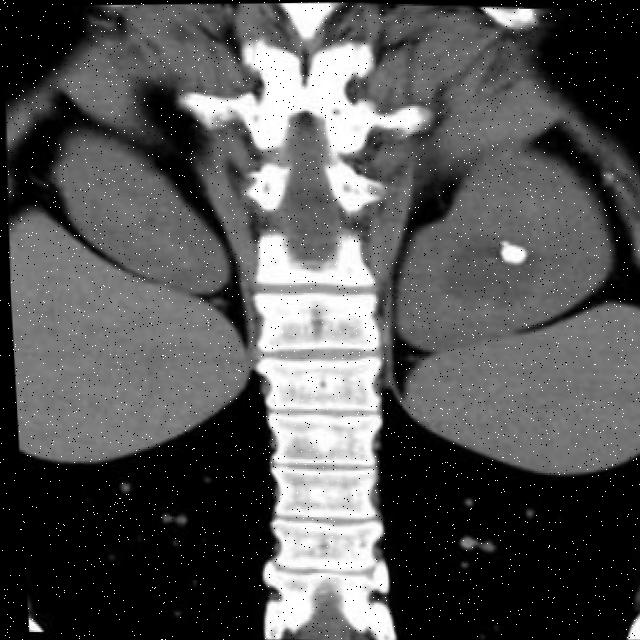Tas_Var: (496, 243, 530, 267), (498, 241, 511, 247)
